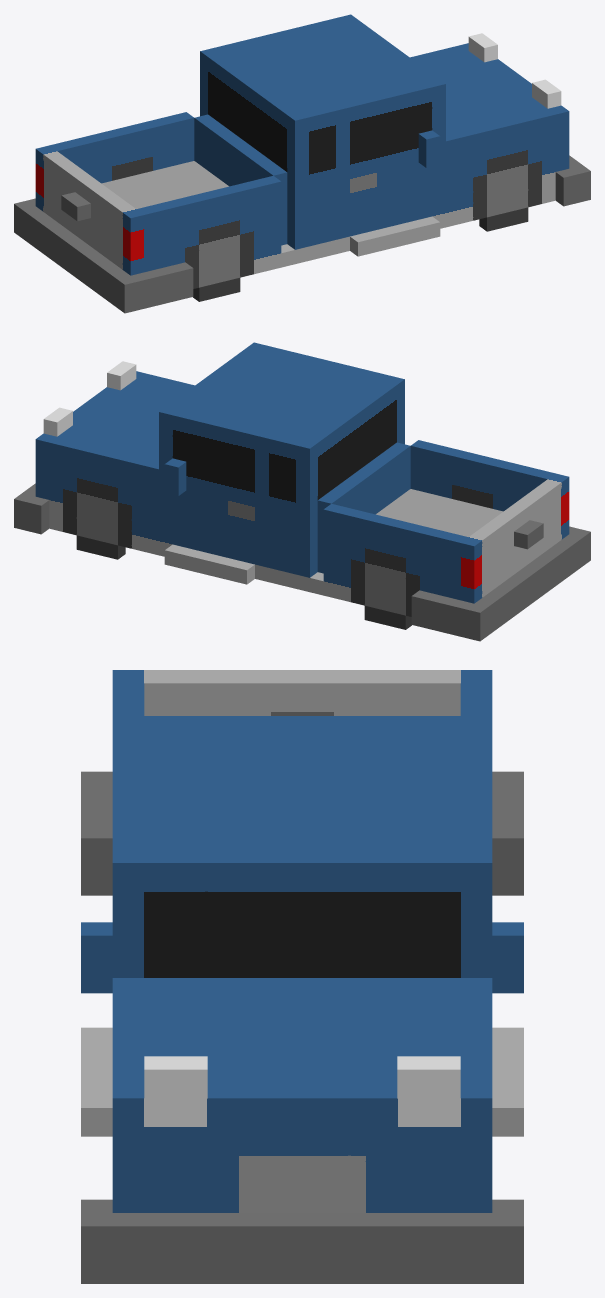
The model's file is veh_truck6.fbx.
3 renders of one model, top to bottom at view 1: azimuth 30°, elevation 25°; view 2: azimuth 150°, elevation 25°; view 3: azimuth 270°, elevation 25°, orthographic. The views are drawn at different scales.
Parts seen in each view (by area): view 1: veh_truck6; view 2: veh_truck6; view 3: veh_truck6.
Boxes of the visible parts, x1,y1,x2,y2 form: veh_truck6: [14, 14, 590, 313]; veh_truck6: [14, 342, 590, 641]; veh_truck6: [81, 670, 523, 1283].
Bounding box in the file's own units: 3.4 × 1.4 × 1.1.
1 material, 1 textured.
